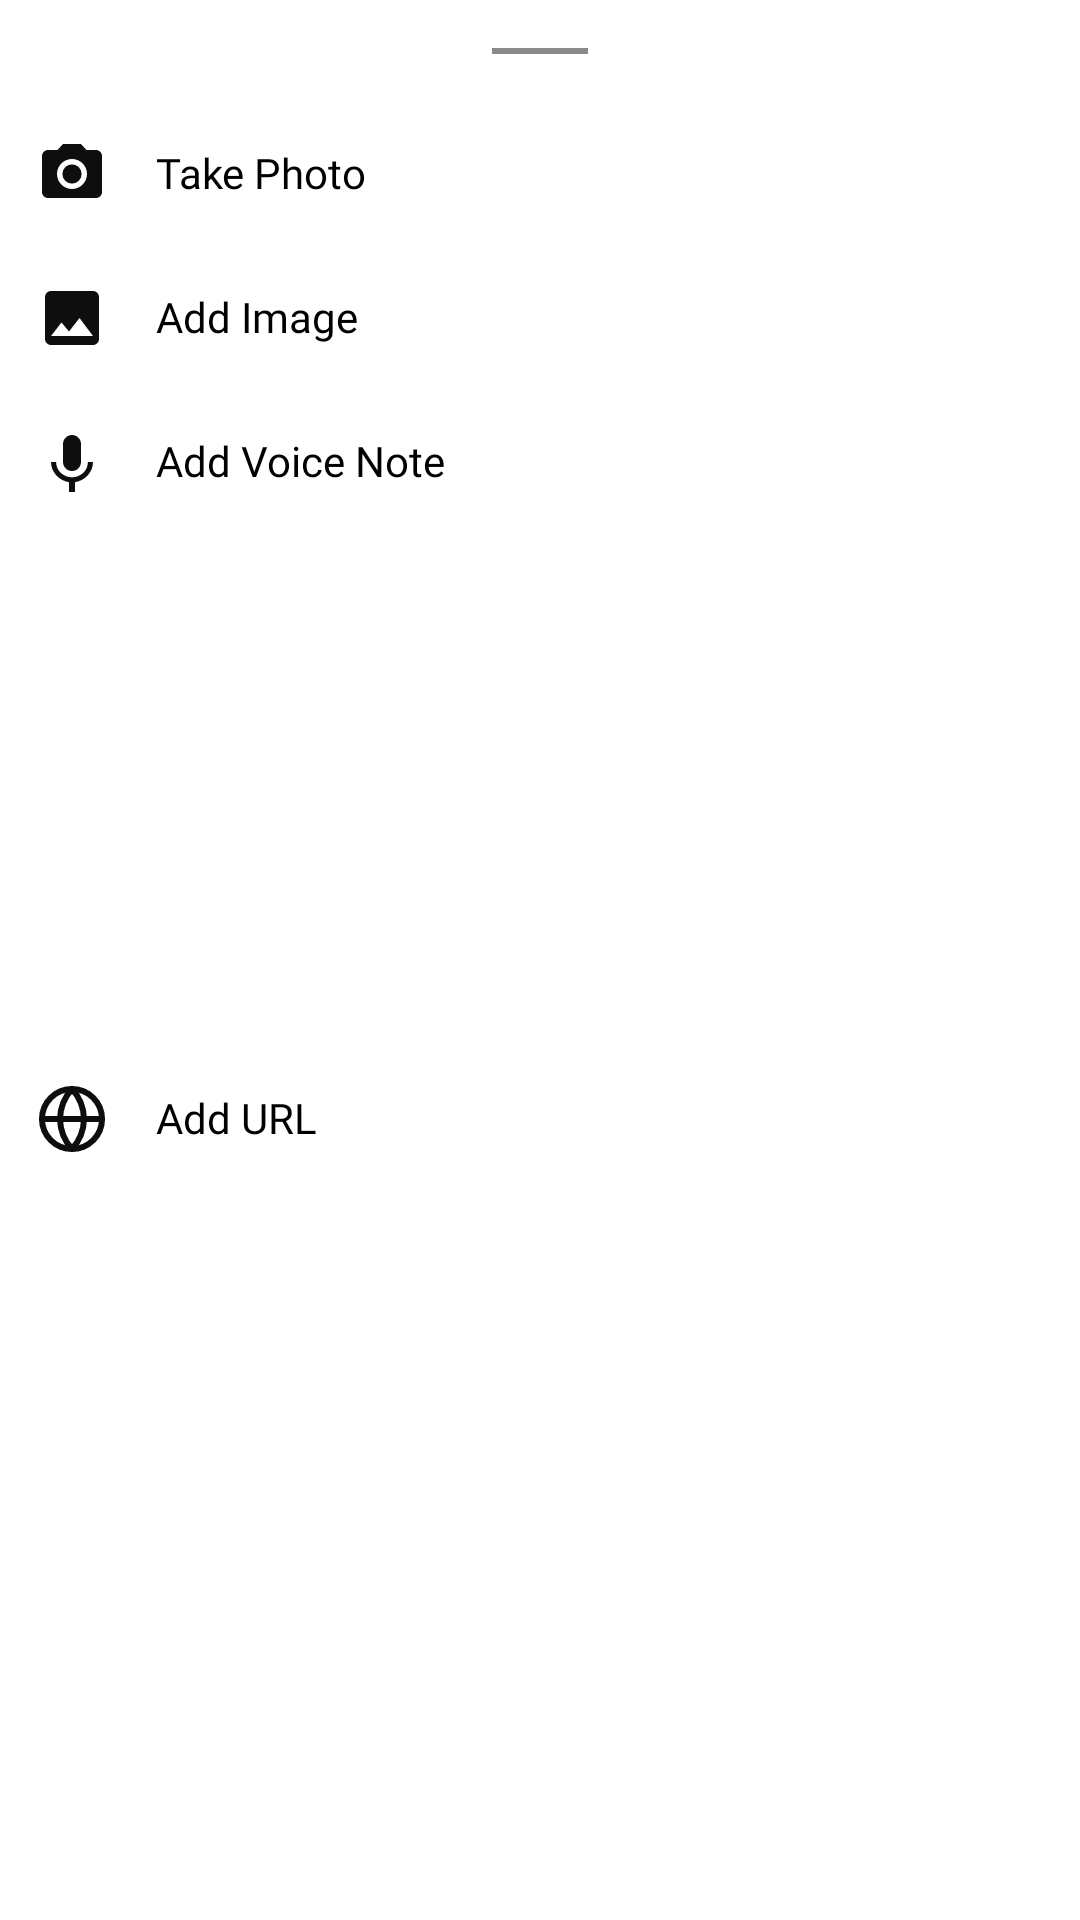

Icons on this 1080x1920 Android screen, each with its box as (x1, y1, x2, y2):
camera: (42, 144, 102, 198)
web link: (39, 1086, 105, 1152)
